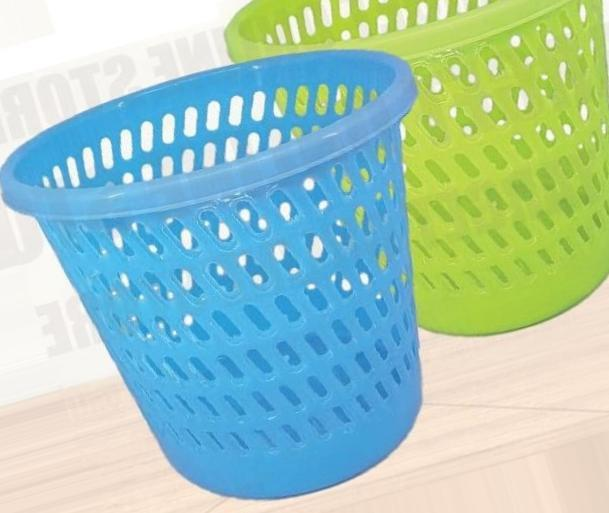Bote de Basura: (244, 0, 609, 344)
